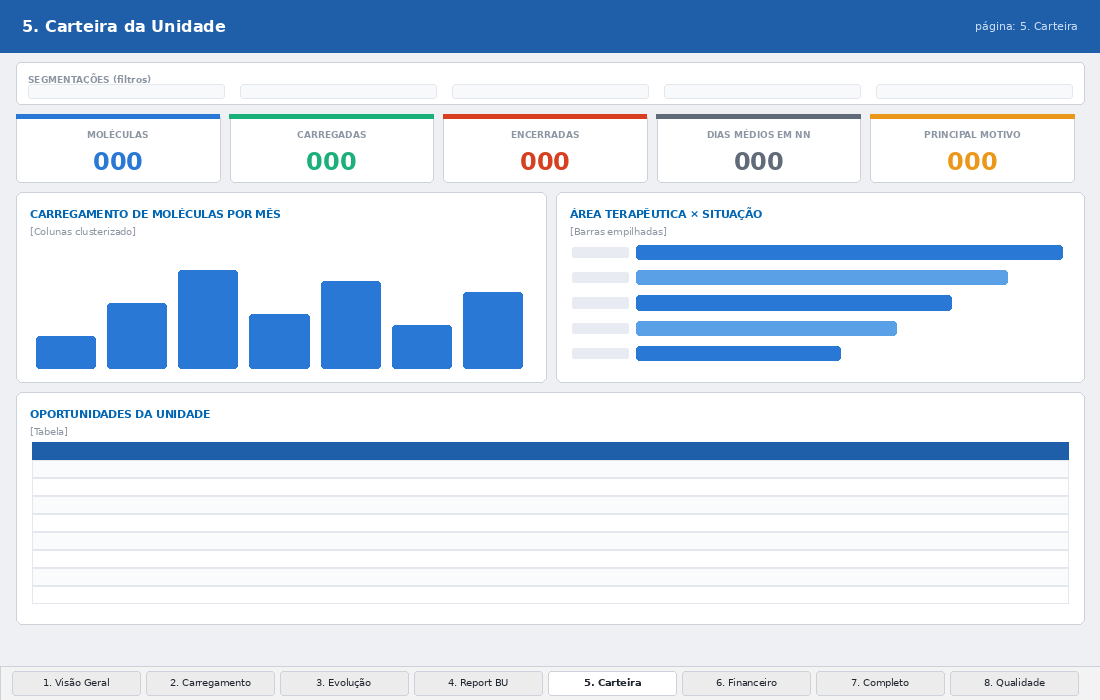

Layout of this report page (visuals, bound fields, positions):
{"tool":"powerbi","page":{"name":"5. Carteira da Unidade","canvas":[1280,720],"ordinal":4},"visuals":[{"type":"shape","box":[0,0,1280,48],"z":-2},{"type":"textbox","box":[20,6,780,34],"z":-1},{"type":"textbox","box":[820,14,444,24],"z":-1},{"type":"slicer","fields":{"Values":["Unidade de Negócio.Unidade de Negócio"]},"box":[16,56,240,40],"z":0},{"type":"slicer","fields":{"Values":["Mapeamento.Franquia"]},"box":[268,56,240,40],"z":0},{"type":"slicer","fields":{"Values":["Mapeamento.Situação"]},"box":[520,56,240,40],"z":0},{"type":"slicer","fields":{"Values":["Status NN.Status"]},"box":[772,56,240,40],"z":0},{"type":"slicer","fields":{"Values":["Calendário.Ano"]},"box":[1024,56,240,40],"z":0},{"type":"card","title":"MOLÉCULAS","fields":{"Values":["_Medidas.Moléculas"]},"box":[16,104,240,72],"z":0},{"type":"card","title":"CARREGADAS NO PERÍODO","fields":{"Values":["_Medidas.Moléculas Novas no Período"]},"box":[268,104,240,72],"z":0},{"type":"card","title":"ENCERRADAS NO PERÍODO","fields":{"Values":["_Medidas.Moléculas Encerradas no Período"]},"box":[520,104,240,72],"z":0},{"type":"card","title":"DIAS MÉDIOS EM NN","fields":{"Values":["_Medidas.Dias Médios em NN"]},"box":[772,104,240,72],"z":0},{"type":"card","title":"PRINCIPAL MOTIVO","fields":{"Values":["_Medidas.Motivo nº 1"]},"box":[1024,104,240,72],"z":0},{"type":"clusteredColumnChart","title":"CARREGAMENTO DE MOLÉCULAS POR MÊS","fields":{"Category":["Calendário.Ano-Mês"],"Y":["_Medidas.Moléculas Novas no Período"]},"box":[16,184,618,200],"z":0},{"type":"barChart","title":"ÁREA TERAPÊUTICA x SITUAÇÃO","fields":{"Category":["Mapeamento.Sub-área Terapêutica"],"Series":["Mapeamento.Situação"],"Y":["_Medidas.Moléculas"]},"box":[646,184,618,200],"z":0},{"type":"tableEx","title":"OPORTUNIDADES DA UNIDADE","fields":{"Values":["Mapeamento.Molécula","Mapeamento.Fornecedor / Parceiro","Mapeamento.Fase Oportunidade NN","Mapeamento.Indicação","Mapeamento.Status NN","Mapeamento.Situação","Mapeamento.Motivo Padrão","Mapeamento.Responsável Final","Mapeamento.Data de Entrada"]},"box":[16,392,1248,305],"z":0}]}

Visuals, with their boxes on the page's 1280x720 design canvas (x1, y1, x2, y2). These are canvas units, not pixel positions in the 1100x700 screenshot, which may show the page scaled, cropped or inside an application window:
shape: bbox=[0, 0, 1280, 48]
textbox: bbox=[20, 6, 800, 40]
textbox: bbox=[820, 14, 1264, 38]
slicer - Unidade de Negócio.Unidade de Negócio: bbox=[16, 56, 256, 96]
slicer - Mapeamento.Franquia: bbox=[268, 56, 508, 96]
slicer - Mapeamento.Situação: bbox=[520, 56, 760, 96]
slicer - Status NN.Status: bbox=[772, 56, 1012, 96]
slicer - Calendário.Ano: bbox=[1024, 56, 1264, 96]
"MOLÉCULAS" card: bbox=[16, 104, 256, 176]
"CARREGADAS NO PERÍODO" card: bbox=[268, 104, 508, 176]
"ENCERRADAS NO PERÍODO" card: bbox=[520, 104, 760, 176]
"DIAS MÉDIOS EM NN" card: bbox=[772, 104, 1012, 176]
"PRINCIPAL MOTIVO" card: bbox=[1024, 104, 1264, 176]
"CARREGAMENTO DE MOLÉCULAS POR MÊS" clusteredColumnChart: bbox=[16, 184, 634, 384]
"ÁREA TERAPÊUTICA x SITUAÇÃO" barChart: bbox=[646, 184, 1264, 384]
"OPORTUNIDADES DA UNIDADE" tableEx: bbox=[16, 392, 1264, 697]
